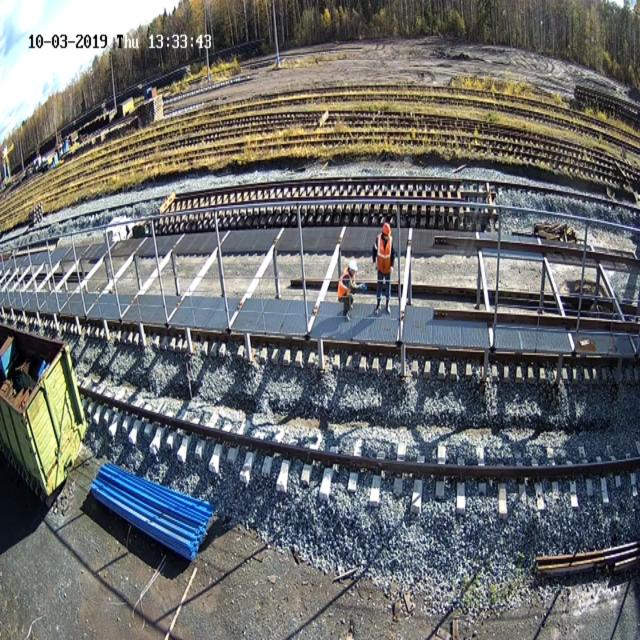Helmet: (348, 258, 358, 272), (382, 222, 391, 236)
Person: (372, 222, 396, 314), (337, 257, 358, 321)
